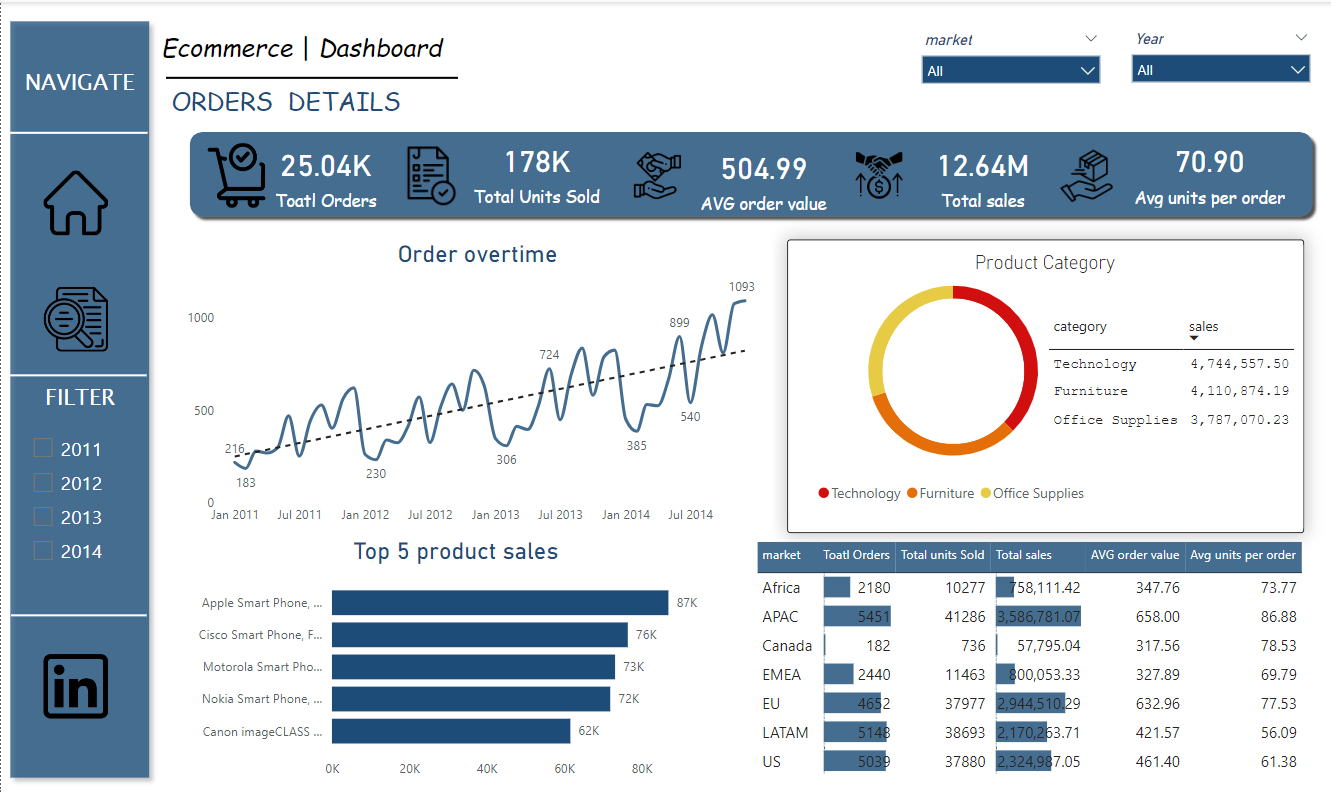

Layout of this report page (visuals, bound fields, positions):
{"tool":"powerbi","page":{"name":"ORDER-DETAILS","canvas":[1300,770],"ordinal":1},"visuals":[{"type":"shape","box":[0,9.7,152.4,749.7],"z":0},{"type":"textbox","box":[0,57.1,145.1,48.4],"z":1000},{"type":"image","box":[36.5,158.2,71.8,71.8],"z":2000},{"type":"shape","box":[8.8,93.8,133.3,64.5],"z":3000},{"type":"image","box":[36.5,271.4,71.8,71.8],"z":4000},{"type":"shape","box":[7.3,328.7,133.9,64.5],"z":5000},{"type":"textbox","box":[0,361.5,146.1,48.7],"z":6000},{"type":"slicer","fields":{"Values":["sales_fact.Order_Date.Variation.Date Hierarchy.Year"]},"box":[18.3,410.2,109.6,142.4],"z":7000},{"type":"shape","box":[9.7,561.1,131.5,64.5],"z":8000},{"type":"image","box":[36.5,625.7,71.8,73],"z":9000},{"type":"shape","box":[159.5,41.4,282.4,64.5],"z":10000},{"type":"textbox","box":[149.7,21.9,320.1,56],"z":11000},{"type":"textbox","box":[159.5,74.3,282.4,56],"z":12000},{"type":"group","id":"g1","title":"Filter","box":[879.8,21.2,395.7,84.8],"z":13000},{"type":"shape","box":[175.3,118.1,1100.4,96.2],"z":14000},{"type":"image","box":[191.1,131.5,73,71.8],"z":15000},{"type":"card","fields":{"Values":["Count(sales_fact.order_detail)"]},"box":[227.6,127.8,174.1,79.1],"z":16000},{"type":"image","box":[383.4,131.5,66.9,73],"z":17000},{"type":"card","fields":{"Values":["Sum(sales_fact.quantity)"]},"box":[429.9,123.7,175.5,80.1],"z":18000},{"type":"image","box":[605.4,140.2,57.7,55.4],"z":19000},{"type":"card","fields":{"Values":["sales_fact.AVG order value"]},"box":[650,130.2,174.1,79.1],"z":20000},{"type":"image","box":[820.4,136.3,59.6,62.1],"z":21000},{"type":"card","fields":{"Values":["sales_fact.Total sales"]},"box":[861.8,127.8,175.3,79.1],"z":22000},{"type":"image","box":[1017.6,135.1,64.5,65.7],"z":23000},{"type":"card","fields":{"Values":["sales_fact.Avg units per order"]},"box":[1082.1,124.2,174.1,79.1],"z":24000},{"type":"shape","box":[760.8,230.1,500.3,283.6],"z":25000},{"type":"donutChart","fields":{"Category":["product_dim.category"],"Y":["Sum(sales_fact.sales)"]},"box":[764.4,249.5,314,244.7],"z":26000},{"type":"tableEx","fields":{"Values":["product_dim.category","Sum(sales_fact.sales)"]},"box":[1007,292.1,260.3,187.3],"z":27000},{"type":"textbox","box":[937.5,235.6,199,35.3],"z":28000},{"type":"shape","box":[852.1,286,137.5,141.2],"z":29000},{"type":"tableEx","fields":{"Values":["store_dim.market","sales_fact.Toatl Orders","sales_fact.Total units Sold","sales_fact.Total sales","sales_fact.AVG order value","sales_fact.Avg units per order"]},"box":[725.5,517.3,540.4,242.2],"z":29002},{"type":"lineChart","title":"Order overtime","fields":{"Category":["sales_fact.Order_Date.Variation.Date Hierarchy.Year","sales_fact.Order_Date.Variation.Date Hierarchy.Quarter","sales_fact.Order_Date.Variation.Date Hierarchy.Month","sales_fact.Order_Date.Variation.Date Hierarchy.Day"],"Y":["sales_fact.Toatl Orders"]},"box":[175.8,230.1,571.5,284.3],"z":29003},{"type":"barChart","title":"Top 5 product sales","fields":{"Y":["Sum(sales_fact.sales)"],"Category":["product_dim.name"]},"box":[175.3,517.3,529.5,242.2],"z":29004},{"type":"slicer","fields":{"Values":["sales_fact.Order_Date.Variation.Date Hierarchy.Year"]},"box":[1082.4,21.2,193.5,84],"z":36000,"group":"g1"},{"type":"slicer","fields":{"Values":["store_dim.market"]},"box":[879.8,22.5,193.4,83.5],"z":37000,"group":"g1"}]}

Visuals, with their boxes in screenshot pixels (x1, y1, x2, y2), scaled from the page's 1300x770 canvas onto the 1331x792 screenshot:
shape: l=0, t=10, r=156, b=781
textbox: l=0, t=59, r=149, b=109
image: l=37, t=163, r=111, b=237
shape: l=9, t=96, r=145, b=163
image: l=37, t=279, r=111, b=353
shape: l=7, t=338, r=145, b=404
textbox: l=0, t=372, r=150, b=422
slicer - sales_fact.Order_Date.Variation.Date Hierarchy.Year: l=19, t=422, r=131, b=568
shape: l=10, t=577, r=145, b=643
image: l=37, t=644, r=111, b=719
shape: l=163, t=43, r=452, b=109
textbox: l=153, t=23, r=481, b=80
textbox: l=163, t=76, r=452, b=134
"Filter" group: l=901, t=22, r=1306, b=109
shape: l=179, t=121, r=1306, b=220
image: l=196, t=135, r=270, b=209
card - Count(sales_fact.order_detail): l=233, t=131, r=411, b=213
image: l=393, t=135, r=461, b=210
card - Sum(sales_fact.quantity): l=440, t=127, r=620, b=210
image: l=620, t=144, r=679, b=201
card - sales_fact.AVG order value: l=666, t=134, r=844, b=215
image: l=840, t=140, r=901, b=204
card - sales_fact.Total sales: l=882, t=131, r=1062, b=213
image: l=1042, t=139, r=1108, b=207
card - sales_fact.Avg units per order: l=1108, t=128, r=1286, b=209
shape: l=779, t=237, r=1291, b=528
donutChart - product_dim.category x Sum(sales_fact.sales): l=783, t=257, r=1104, b=508
tableEx - product_dim.category x Sum(sales_fact.sales): l=1031, t=300, r=1298, b=493
textbox: l=960, t=242, r=1164, b=279
shape: l=872, t=294, r=1013, b=439
tableEx - store_dim.market x sales_fact.Toatl Orders: l=743, t=532, r=1296, b=781
"Order overtime" lineChart: l=180, t=237, r=765, b=529
"Top 5 product sales" barChart: l=179, t=532, r=722, b=781
slicer - sales_fact.Order_Date.Variation.Date Hierarchy.Year: l=1108, t=22, r=1306, b=108
slicer - store_dim.market: l=901, t=23, r=1099, b=109
